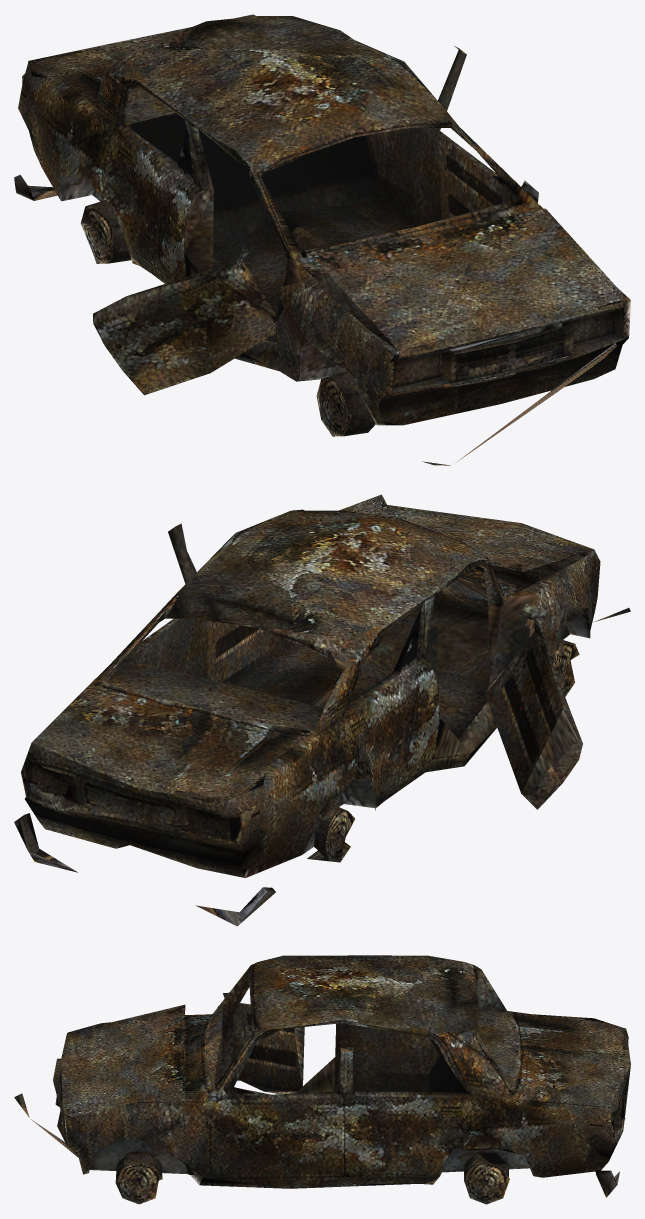
Rendered from car2_LOD2.FBX.
3 views of the same model, one above another, from view 1: azimuth 30°, elevation 25°; view 2: azimuth 150°, elevation 25°; view 3: azimuth 270°, elevation 25° (orthographic). The views are drawn at different scales.
Parts seen in each view (by area): view 1: car2; view 2: car2; view 3: car2.
Part boxes in pixels (box(x1,y1,x2,y2)): car2: box(14, 14, 630, 465); car2: box(14, 494, 630, 926); car2: box(14, 955, 630, 1204).
Size of the model in its own units: 27.85 by 16.63 by 50.34.
Materials: 1 (1 with a texture image).
